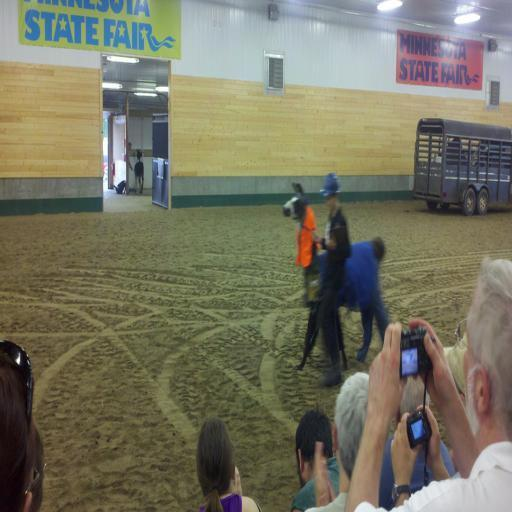horse: (282, 181, 386, 369)
